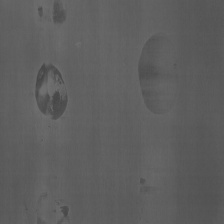oil_spot: (137, 27, 180, 115), (34, 59, 69, 126), (33, 192, 71, 224), (51, 1, 68, 27), (137, 176, 152, 193), (38, 3, 43, 19)
